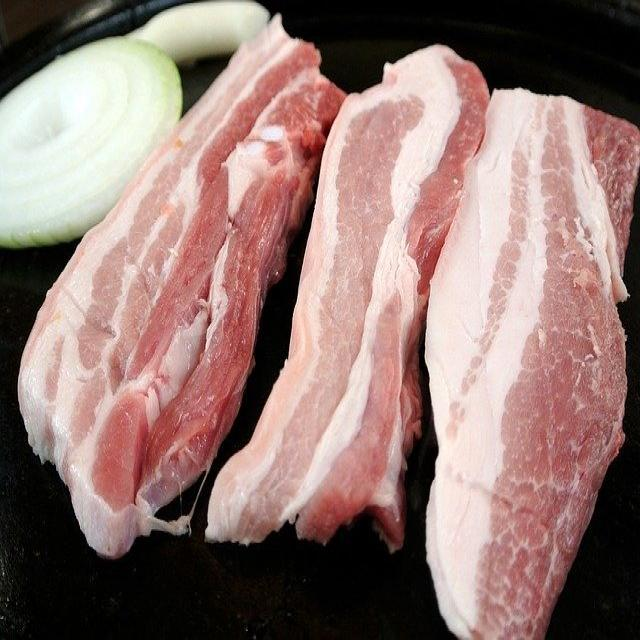pork: (23, 11, 347, 569), (203, 32, 492, 551), (422, 78, 640, 640)
